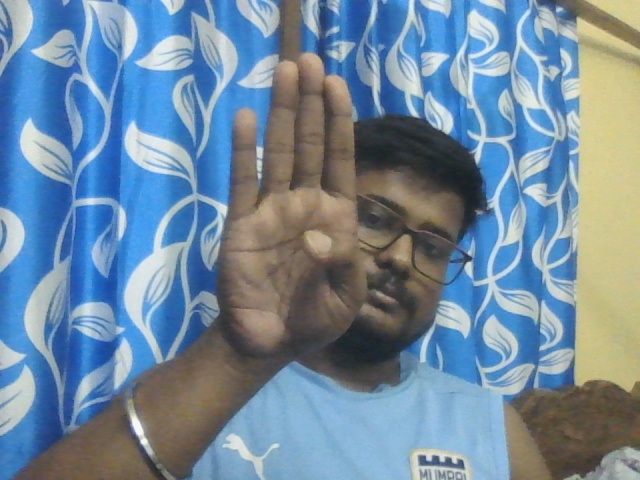B: (219, 51, 363, 357)
